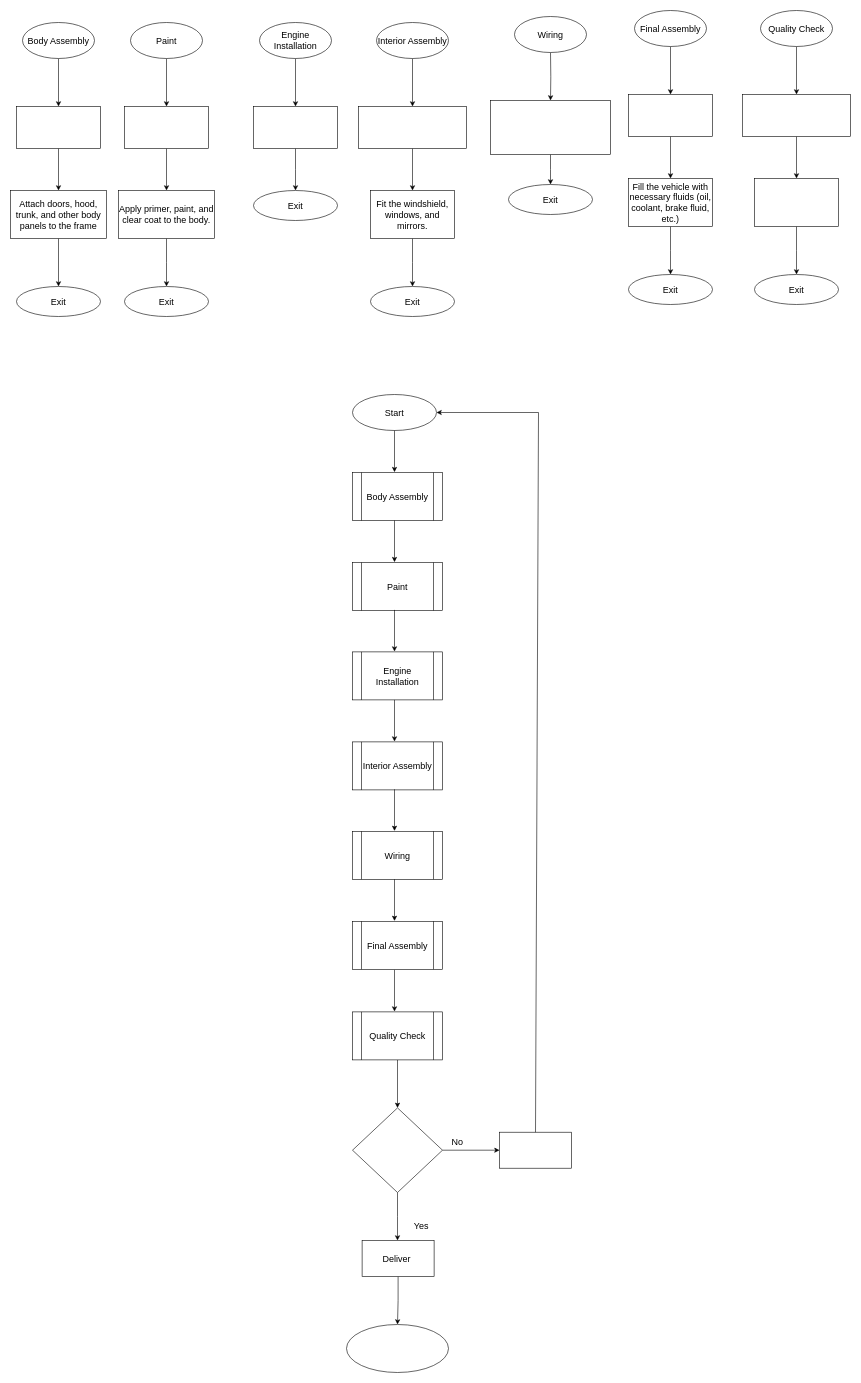
Image size: 861x1383. Some labels were removed from this diagram. The centre of each missing label's shape, as x and y in pixels:
"Check all the modules mentioned before" belongs at point 796,202.
"Clean and prep the body for painting." belongs at point 166,127.
"Does it pass the quality check?" belongs at point 397,1149.
"End" belongs at point 397,1348.
"Install dashboard seats, carpets, and other interior fittings." belongs at point 412,127.
"Install Engine and Transmission into the body." belongs at point 295,127.
"Install Wheels and Tires." belongs at point 670,115.
"Install wiring in all the required electronic devices (speaker, lights etc)" belongs at point 550,127.
"Perform a test drive to ensure the vehicle functions correctly." belongs at point 796,115.
"Rework" belongs at point 535,1150.
"Weld and assemble the car frame" belongs at point 58,127.
